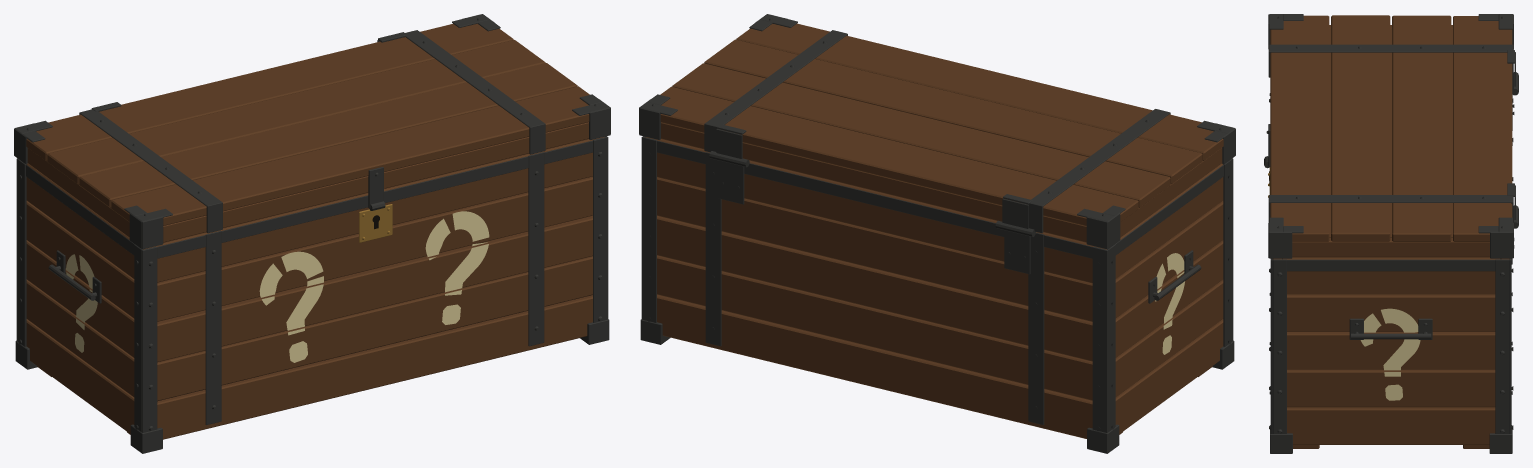
Rendered from mystery_box.glb.
3 renders of one model, left to right at view 1: azimuth 30°, elevation 25°; view 2: azimuth 150°, elevation 25°; view 3: azimuth 270°, elevation 25°, orthographic. The views are drawn at different scales.
Visible parts, largest first — view 1: wood, lid_wood, iron, lid_iron, paint, brass; view 2: wood, lid_wood, iron, lid_iron, paint; view 3: lid_wood, wood, iron, lid_iron, paint.
Part boxes in pixels (x1=…): wood: x1=26, y1=136, x2=604, y2=439; lid_wood: x1=26, y1=23, x2=589, y2=242; iron: x1=15, y1=136, x2=609, y2=453; lid_iron: x1=14, y1=14, x2=610, y2=249; paint: x1=66, y1=211, x2=489, y2=362; brass: x1=359, y1=204, x2=392, y2=242; wood: x1=645, y1=137, x2=1223, y2=438; lid_wood: x1=660, y1=23, x2=1223, y2=242; iron: x1=640, y1=136, x2=1234, y2=453; lid_iron: x1=639, y1=14, x2=1235, y2=249; paint: x1=1155, y1=253, x2=1184, y2=354; lid_wood: x1=1270, y1=15, x2=1512, y2=257; wood: x1=1272, y1=257, x2=1509, y2=448; iron: x1=1269, y1=72, x2=1518, y2=453; lid_iron: x1=1264, y1=14, x2=1515, y2=258; paint: x1=1360, y1=308, x2=1420, y2=400.
Size of the model in its own units: 1.87 by 0.862 by 0.888.
